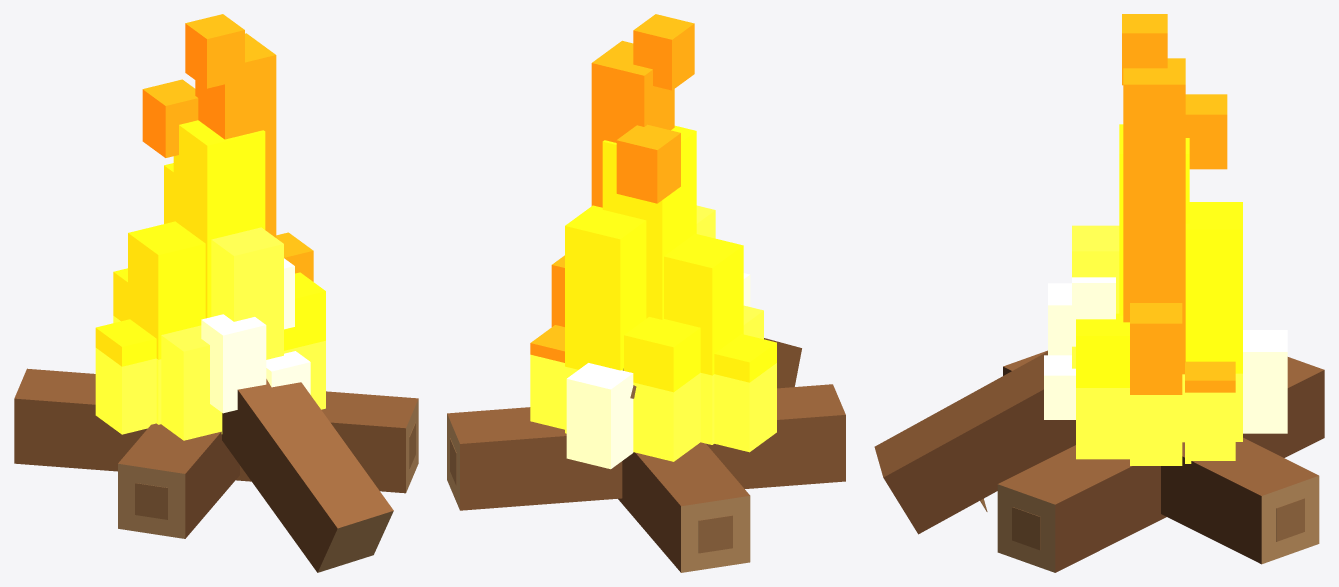
Rendered from campfire.glb.
The picture shows the model from 3 angles, left to right: view 1: azimuth 30°, elevation 25°; view 2: azimuth 150°, elevation 25°; view 3: azimuth 270°, elevation 25°; orthographic projection. The views are drawn at different scales.
Parts seen in each view (by area): view 1: Low-poly voxel campfire; view 2: Low-poly voxel campfire; view 3: Low-poly voxel campfire.
Boxes of the visible parts, <box> form: Low-poly voxel campfire: <box>14,14,418,572</box>; Low-poly voxel campfire: <box>447,14,845,572</box>; Low-poly voxel campfire: <box>874,14,1324,572</box>.
Bounding box in the file's own units: 2.25 × 3.27 × 2.75.
